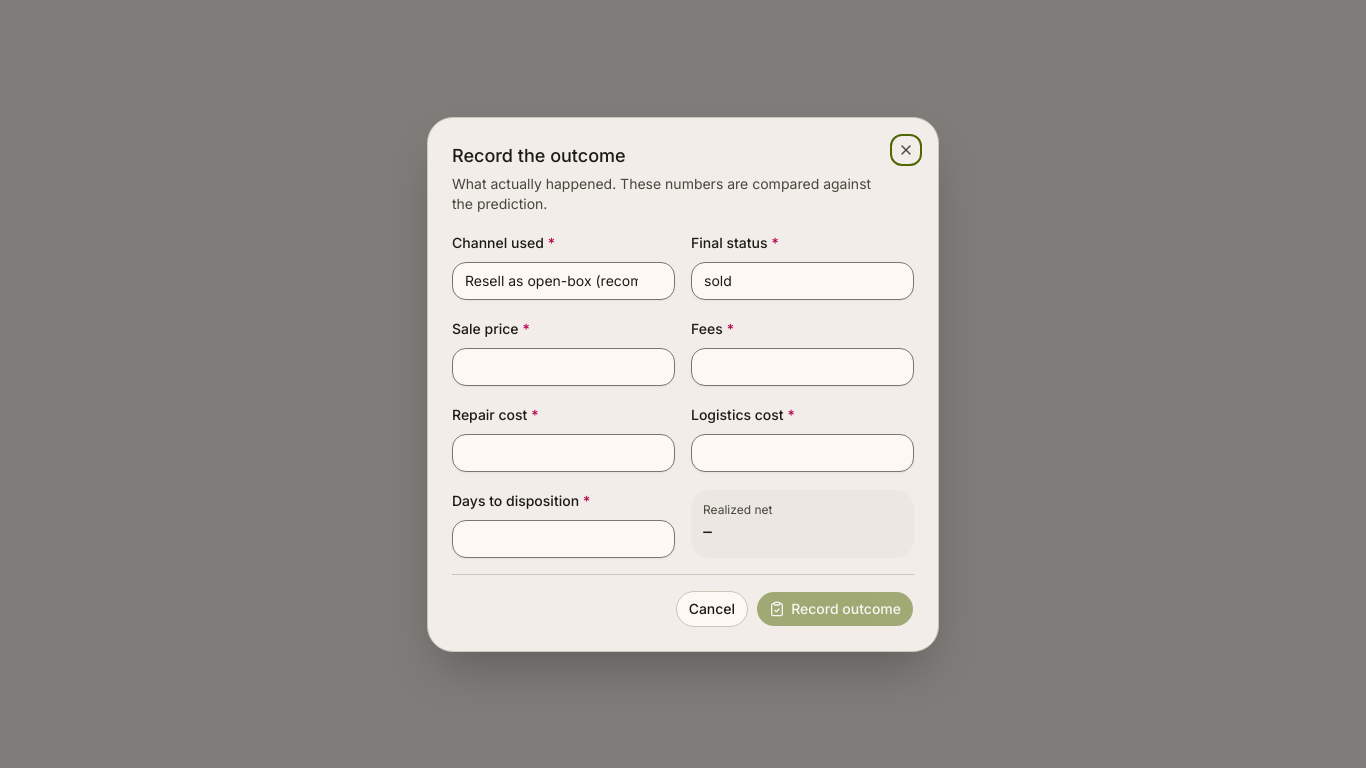
Scenario: OutcomeDialog › previews the realized net as the numbers are entered
The width and height of the screenshot is (1366, 768).
Type "1000" into the number field labelled "Sale price*" at (564, 366), box [452,348,675,386]
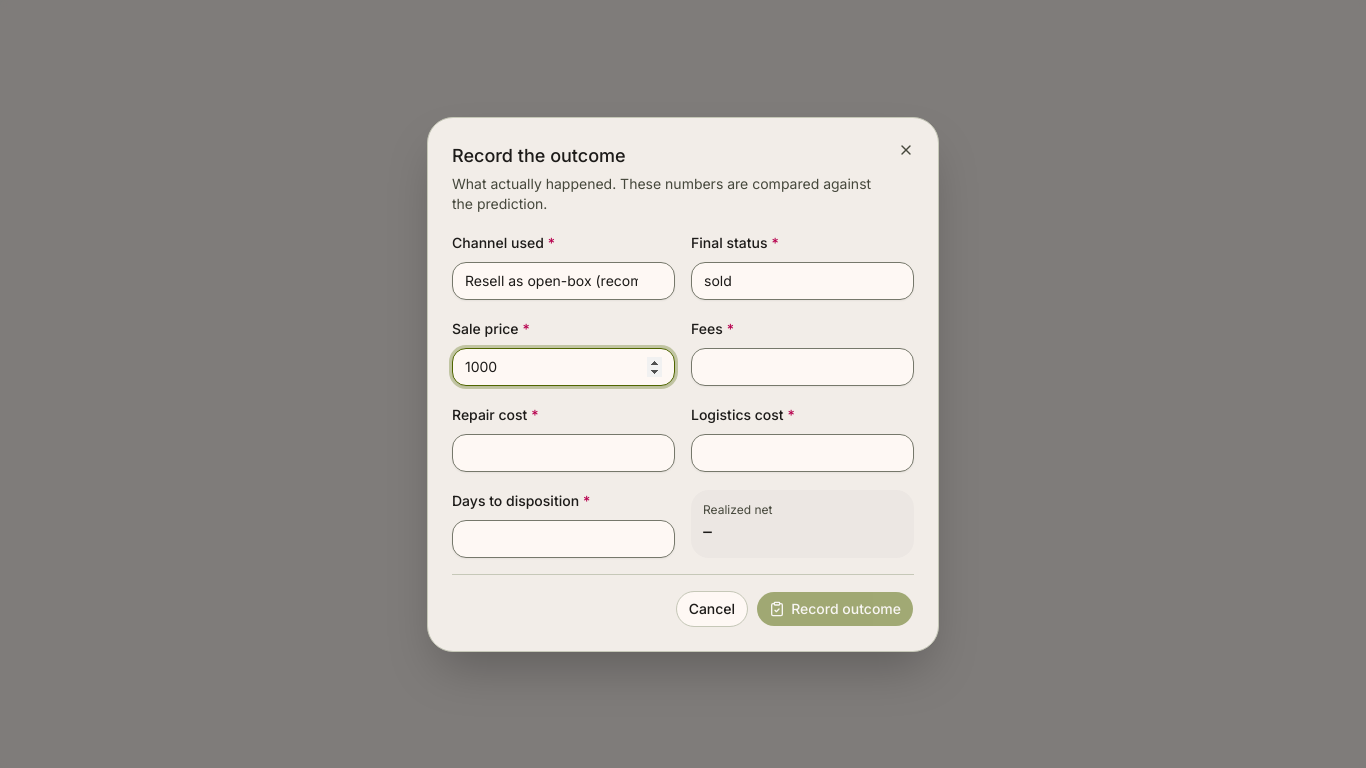
Type "120" into the number field labelled "Fees*" at (802, 366), box [691,348,914,386]
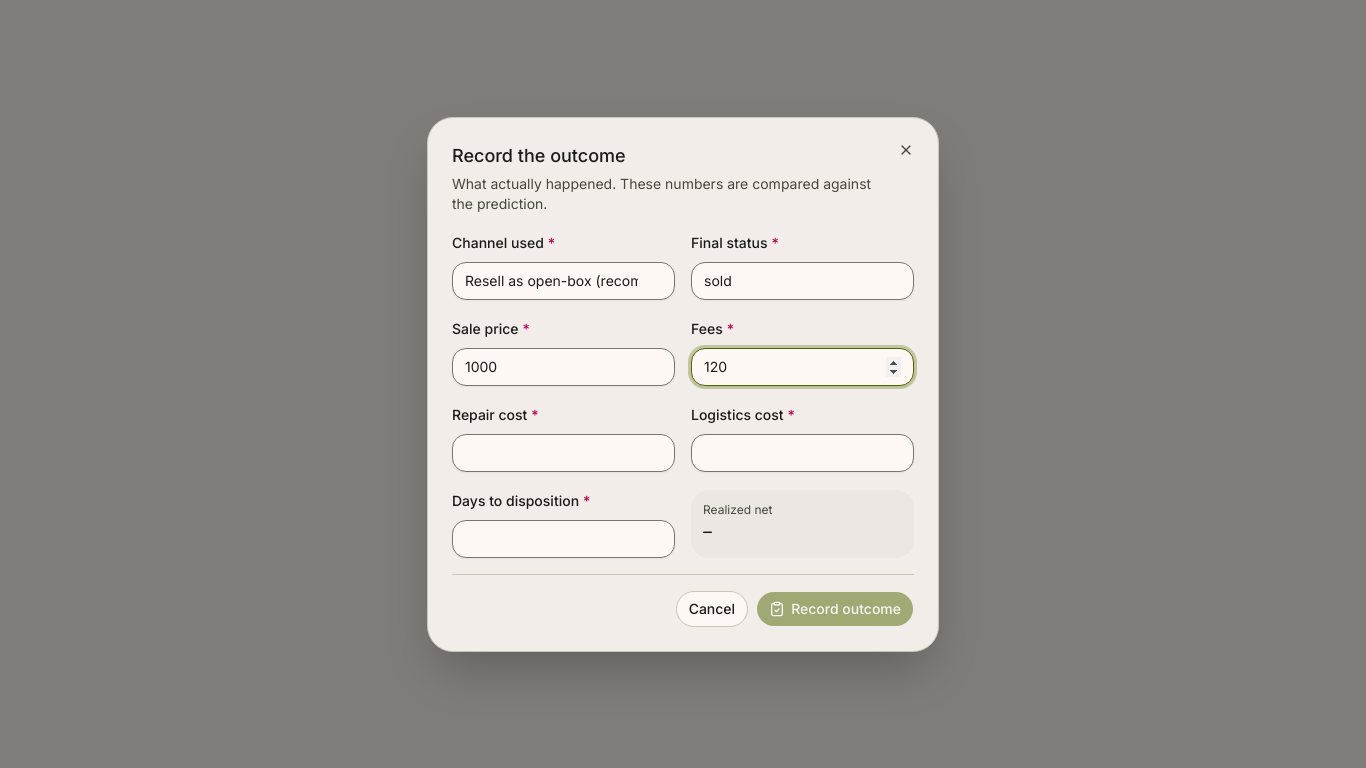
Type "0" into the number field labelled "Repair cost*" at (564, 452), box [452,434,675,472]
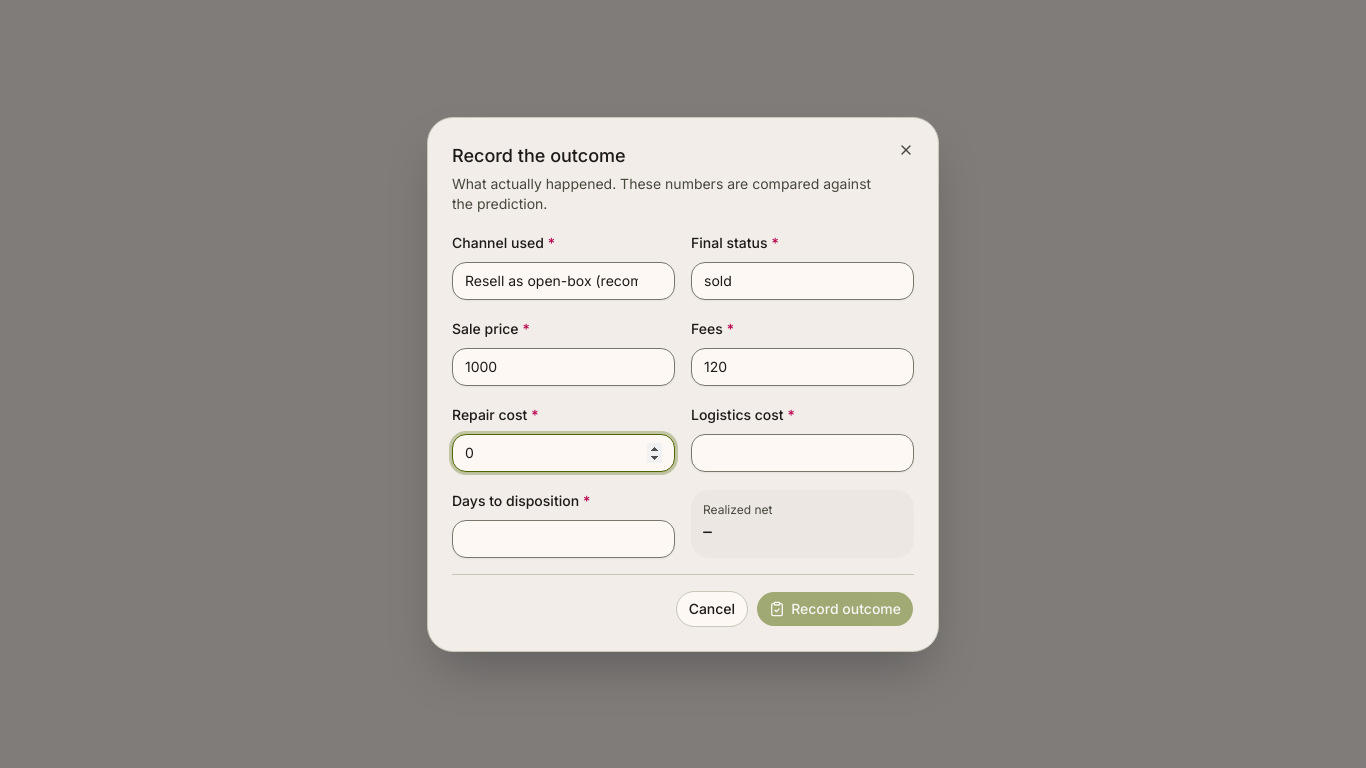
Type "25" into the number field labelled "Logistics cost*" at (802, 452), box [691,434,914,472]
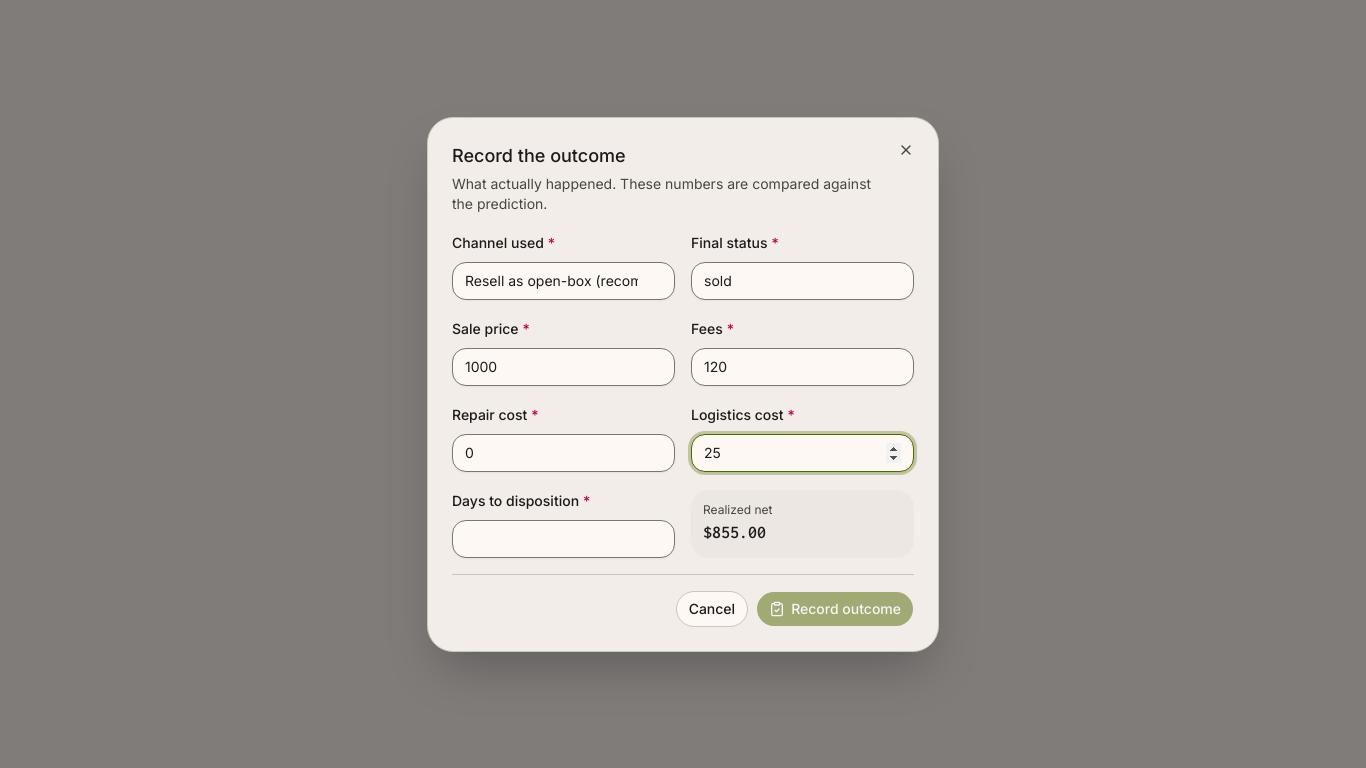
Expected: the text with test id "outcome-net-preview" reads "$855.00", [703,522,766,540]
